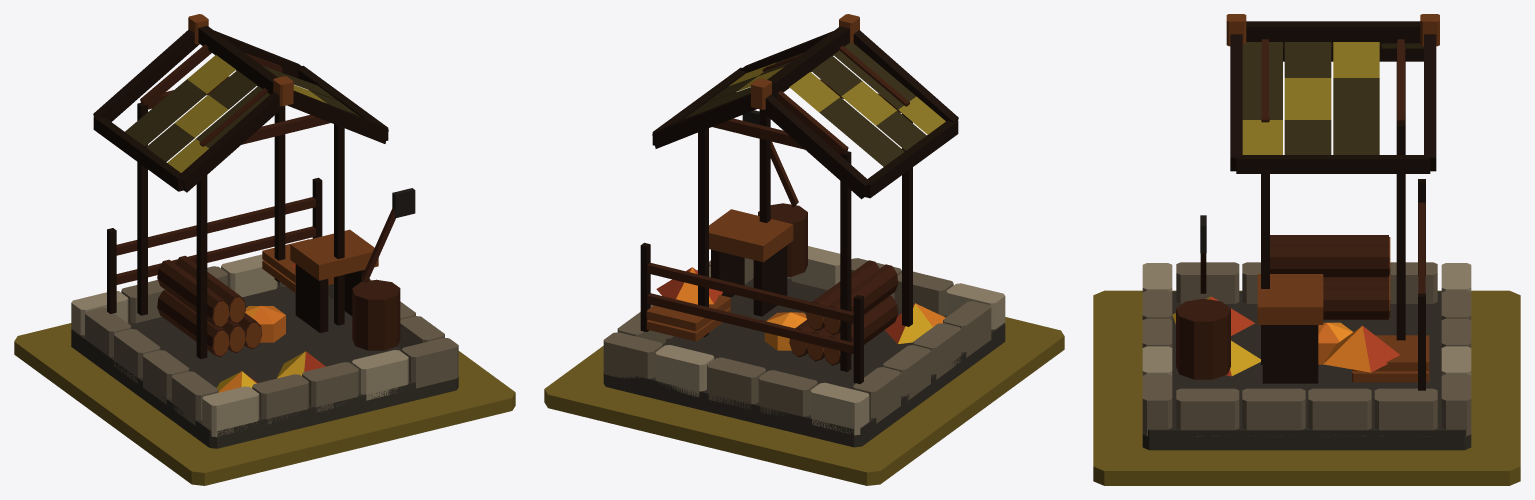
File: lumber_t2.glb
3 views of the same model, side by side, from view 1: azimuth 30°, elevation 25°; view 2: azimuth 150°, elevation 25°; view 3: azimuth 270°, elevation 25° (orthographic). The views are drawn at different scales.
Visible parts, largest first — view 1: MMR | lumber | T02 Architecture.001, MMR | lumber | Tier 02 Ground.001, MMR | lumber | T02 Autumn Dressing.001; view 2: MMR | lumber | T02 Architecture.001, MMR | lumber | Tier 02 Ground.001, MMR | lumber | T02 Autumn Dressing.001; view 3: MMR | lumber | T02 Architecture.001, MMR | lumber | Tier 02 Ground.001, MMR | lumber | T02 Autumn Dressing.001.
Boxes of the visible parts, box(x1,y1,x2,y2) form: MMR | lumber | T02 Architecture.001: box(71, 14, 458, 448); MMR | lumber | Tier 02 Ground.001: box(14, 323, 515, 485); MMR | lumber | T02 Autumn Dressing.001: box(217, 263, 325, 392); MMR | lumber | T02 Architecture.001: box(603, 14, 1005, 447); MMR | lumber | Tier 02 Ground.001: box(544, 317, 1064, 485); MMR | lumber | T02 Autumn Dressing.001: box(656, 267, 945, 350); MMR | lumber | T02 Architecture.001: box(1142, 14, 1471, 450); MMR | lumber | Tier 02 Ground.001: box(1093, 290, 1520, 485); MMR | lumber | T02 Autumn Dressing.001: box(1172, 296, 1399, 376).
Bounding box in the file's own units: 1.3 × 1.25 × 1.3.
Materials: 1 (1 with a texture image).
